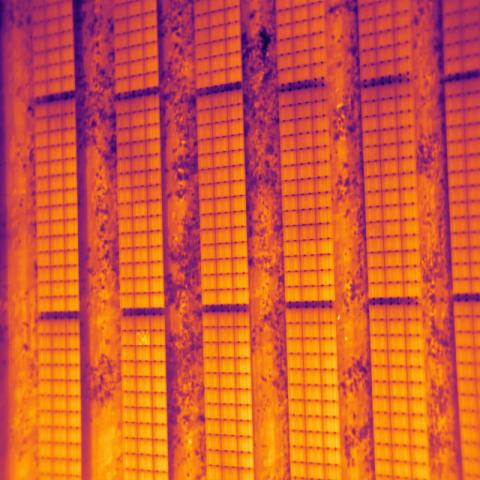fault: (134, 329, 151, 345)
